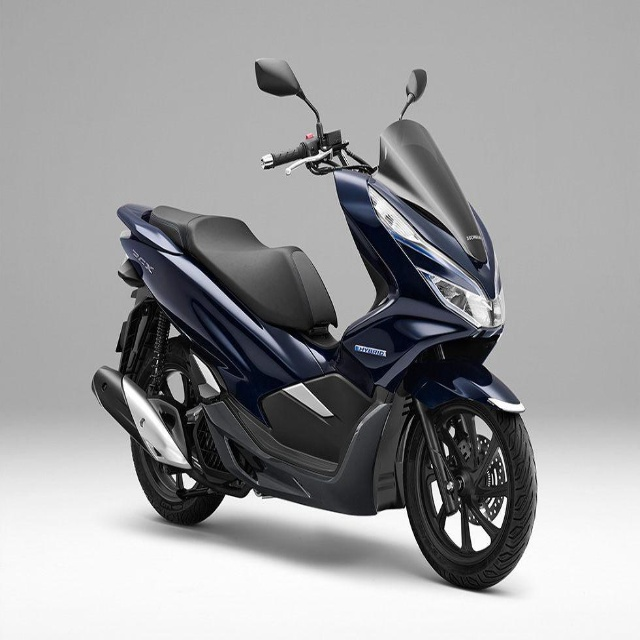Motorcycle: (91, 59, 537, 589)
